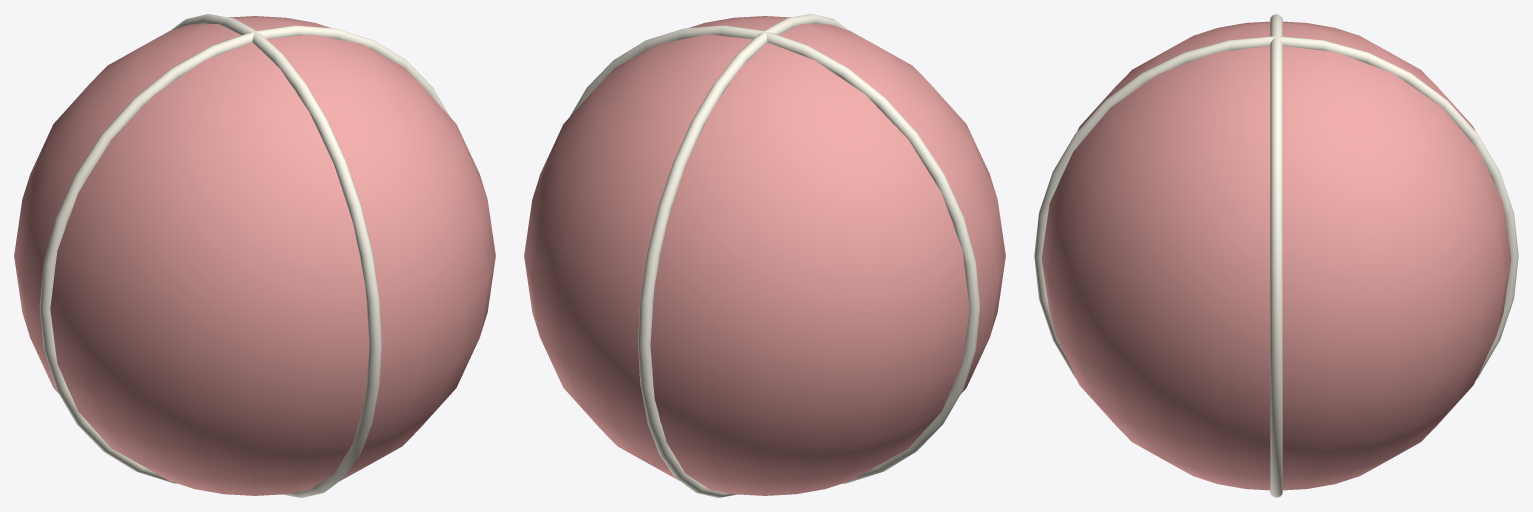
The model's file is toy-pinkBall.glb.
3 renders of one model, left to right at view 1: azimuth 30°, elevation 25°; view 2: azimuth 150°, elevation 25°; view 3: azimuth 270°, elevation 25°, orthographic. The views are drawn at different scales.
Visible parts, largest first — view 1: Ball, Ball seam.001, Ball seam; view 2: Ball, Ball seam.001, Ball seam; view 3: Ball, Ball seam, Ball seam.001.
Boxes of the visible parts, x1,y1,x2,y2 form: Ball: [14, 16, 495, 495]; Ball seam.001: [39, 25, 449, 483]; Ball seam: [171, 14, 381, 497]; Ball: [524, 16, 1005, 495]; Ball seam.001: [570, 25, 980, 483]; Ball seam: [638, 14, 848, 497]; Ball: [1041, 21, 1511, 490]; Ball seam: [1034, 36, 1518, 379]; Ball seam.001: [1270, 14, 1282, 497].
Bounding box in the file's own units: 0.74 × 0.74 × 0.74.
